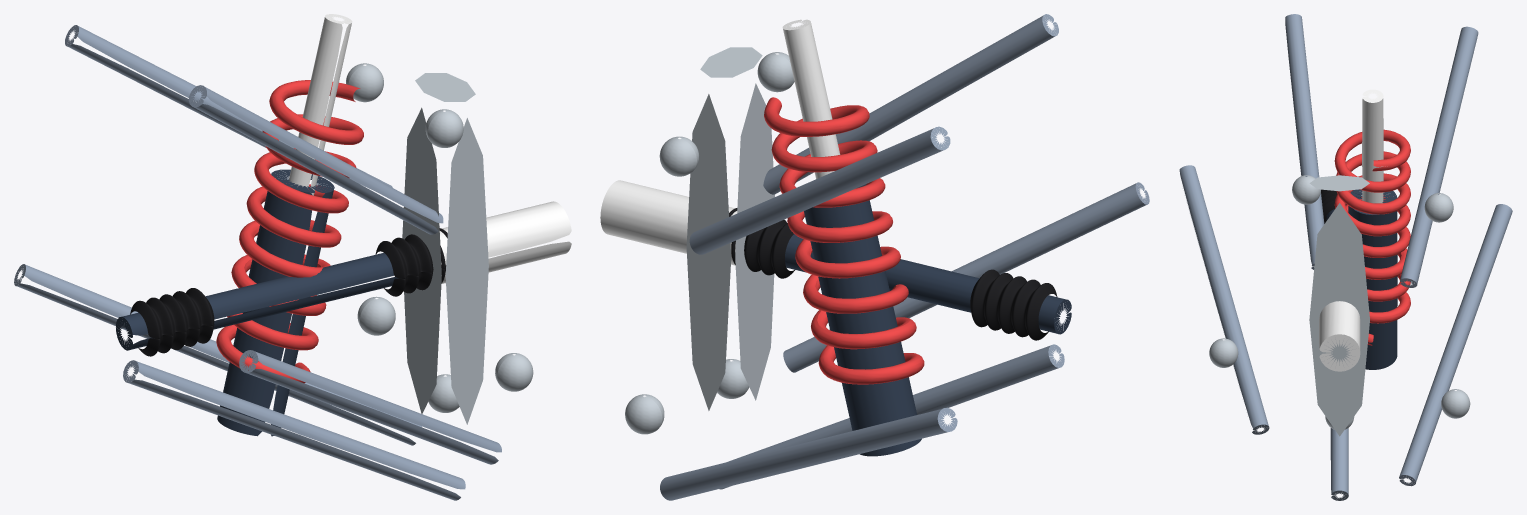
The model's file is suspension_rear.glb.
3 renders of one model, left to right at view 1: azimuth 30°, elevation 25°; view 2: azimuth 150°, elevation 25°; view 3: azimuth 270°, elevation 25°, orthographic. The views are drawn at different scales.
Parts seen in each view (by area): view 1: Rear_Coilover_Assembly, Rear_Wheel_Carrier, CV_Drive_Axle_Halfshaft, Lower_Control_Arm, Upper_Camber_Link, Adjustable_Toe_Link, Lower_Trailing_Arm, Upper_Trailing_Link; view 2: Rear_Coilover_Assembly, Rear_Wheel_Carrier, CV_Drive_Axle_Halfshaft, Lower_Trailing_Arm, Upper_Trailing_Link, Upper_Camber_Link, Adjustable_Toe_Link, Lower_Control_Arm; view 3: Rear_Coilover_Assembly, Rear_Wheel_Carrier, Lower_Trailing_Arm, Adjustable_Toe_Link, Upper_Trailing_Link, Upper_Camber_Link, Lower_Control_Arm, CV_Drive_Axle_Halfshaft.
Boxes of the visible parts, x1,y1,x2,y2 form: Rear_Coilover_Assembly: (216,14,363,436); Rear_Wheel_Carrier: (402,73,571,424); CV_Drive_Axle_Halfshaft: (116,228,447,356); Lower_Control_Arm: (123,360,465,500); Upper_Camber_Link: (188,85,463,234); Adjustable_Toe_Link: (239,350,533,464); Lower_Trailing_Arm: (14,264,421,445); Upper_Trailing_Link: (65,25,392,189); Rear_Coilover_Assembly: (764,19,924,456); Rear_Wheel_Carrier: (600,47,774,410); CV_Drive_Axle_Halfshaft: (729,208,1071,340); Lower_Trailing_Arm: (625,394,957,500); Upper_Trailing_Link: (659,126,950,254); Upper_Camber_Link: (757,14,1058,194); Adjustable_Toe_Link: (783,182,1149,372); Lower_Control_Arm: (717,344,1064,489); Rear_Coilover_Assembly: (1334,89,1410,369); Rear_Wheel_Carrier: (1309,175,1369,436); Lower_Trailing_Arm: (1399,204,1512,486); Adjustable_Toe_Link: (1179,165,1269,434); Upper_Trailing_Link: (1400,26,1478,287); Upper_Camber_Link: (1285,14,1324,269); Lower_Control_Arm: (1325,416,1354,500); CV_Drive_Axle_Halfshaft: (1321,189,1360,223).
Size of the model in its own units: 0.462 by 0.5108 by 0.4037.
